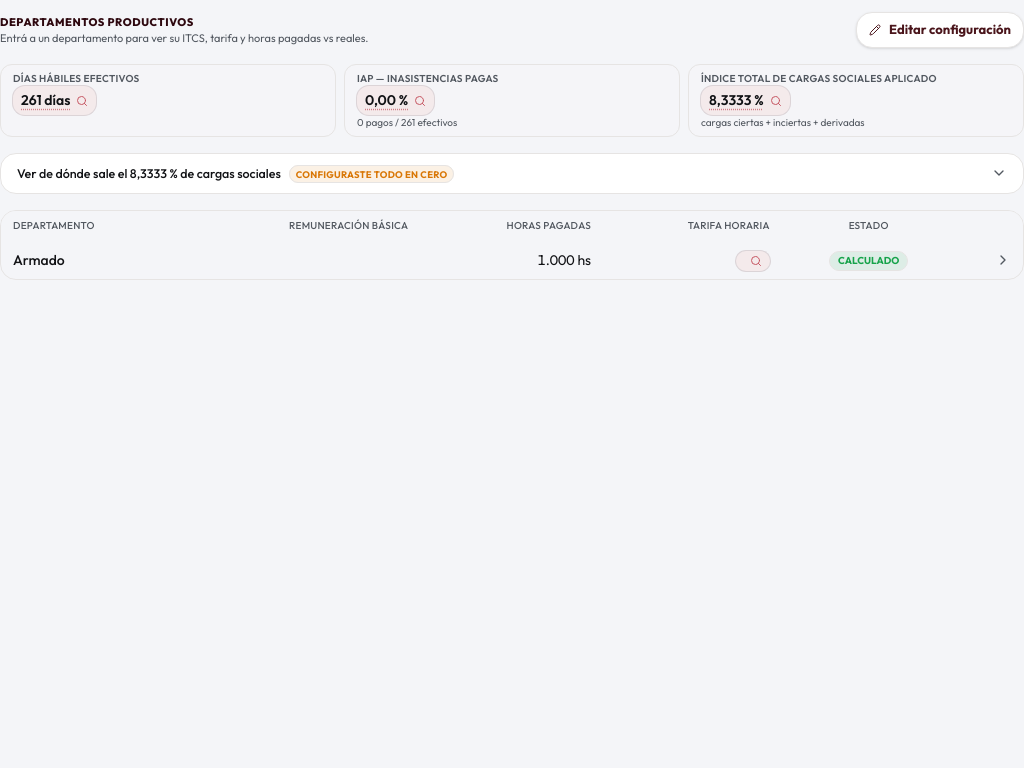
Scenario: hoja de MOD — el costista puede ver de dónde sale la carga social › desde la lista, un click abre el desglose del índice aplicado
This screenshot has width=1024, height=768.
Check: the text "sueldo anual complementario" is not shown
Click the button "de dónde sale el 8,3333 %" at point(73, 173), box [1,154,1023,193]
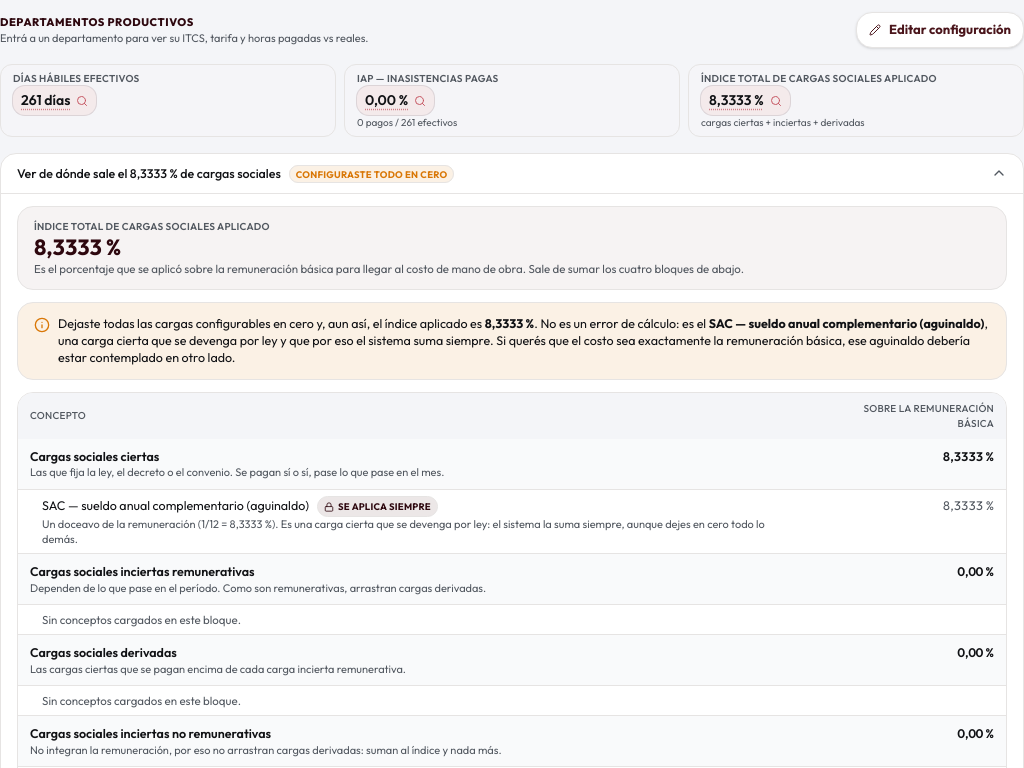
Check: the text "SAC — sueldo anual complementario (aguinaldo)" in the row of ". No es un error de cálculo:" is shown, box [709,315,984,331]
Check: the text "Se aplica siempre" is shown, box [317,496,438,517]
Check: the text "no es un error de cálculo" is shown, box [534,315,679,331]
